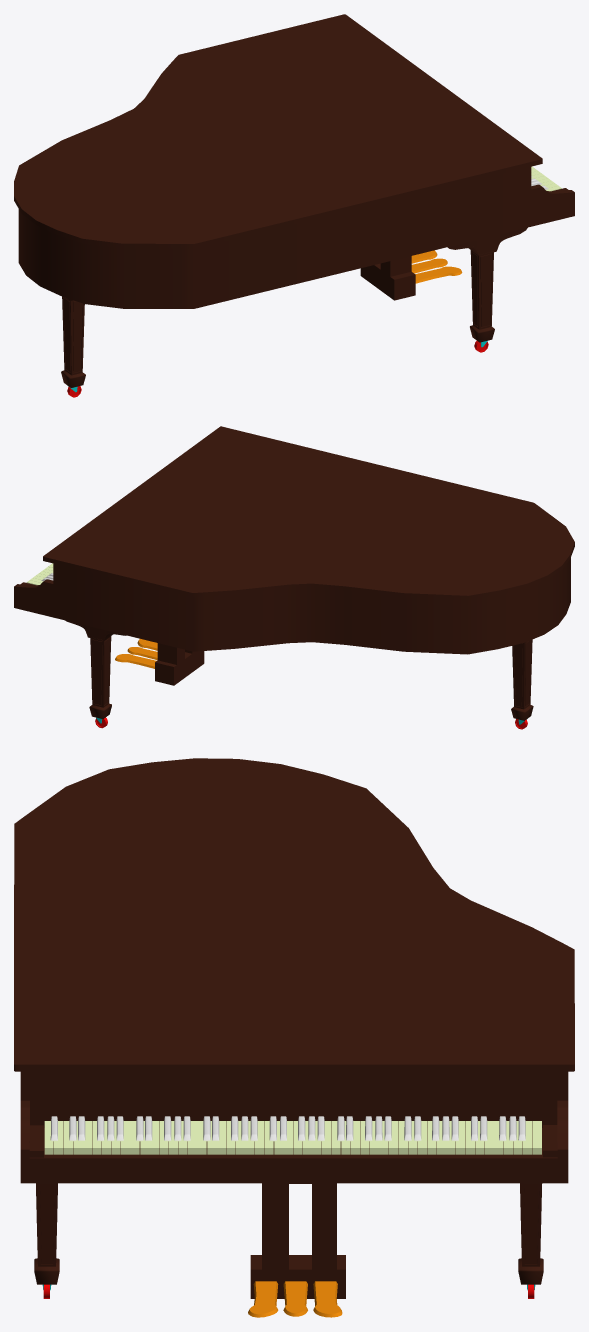
File: piano.fbx
3 renders of one model, top to bottom at view 1: azimuth 30°, elevation 25°; view 2: azimuth 150°, elevation 25°; view 3: azimuth 270°, elevation 25°, orthographic. The views are drawn at different scales.
Parts seen in each view (by area): view 1: Piano, Plane004, Plane005, Box001, Plane006; view 2: Piano, Plane004, Box001, Plane005, Plane006; view 3: Piano, TastoBianco, TastoNero, Box001, Plane004, Plane006.
Boxes of the visible parts, <box> form: Piano: <box>14,14,574,308</box>; Plane004: <box>447,227,527,342</box>; Plane005: <box>61,296,85,387</box>; Box001: <box>360,256,415,300</box>; Plane006: <box>411,250,462,283</box>; Piano: <box>14,426,574,654</box>; Plane004: <box>65,620,126,718</box>; Box001: <box>155,643,204,685</box>; Plane005: <box>511,639,533,720</box>; Plane006: <box>115,638,157,668</box>; Piano: <box>14,758,574,1183</box>; TastoBianco: <box>44,1121,541,1154</box>; TastoNero: <box>50,1116,525,1140</box>; Box001: <box>250,1183,345,1298</box>; Plane004: <box>34,1183,543,1284</box>; Plane006: <box>248,1281,342,1317</box>.
Bounding box in the file's own units: 757 × 286 × 544.
